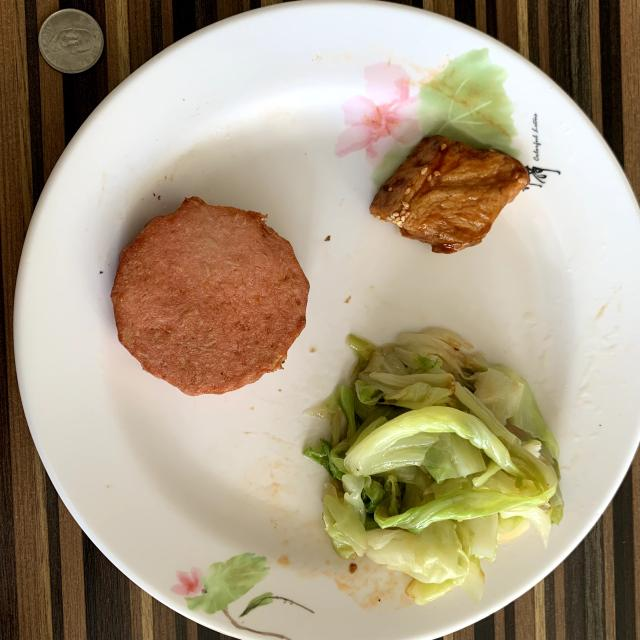Spam: (111, 196, 309, 395)
cabbage: (305, 329, 564, 604)
coin: (39, 9, 104, 74)
creamy tofu: (370, 135, 530, 254)
